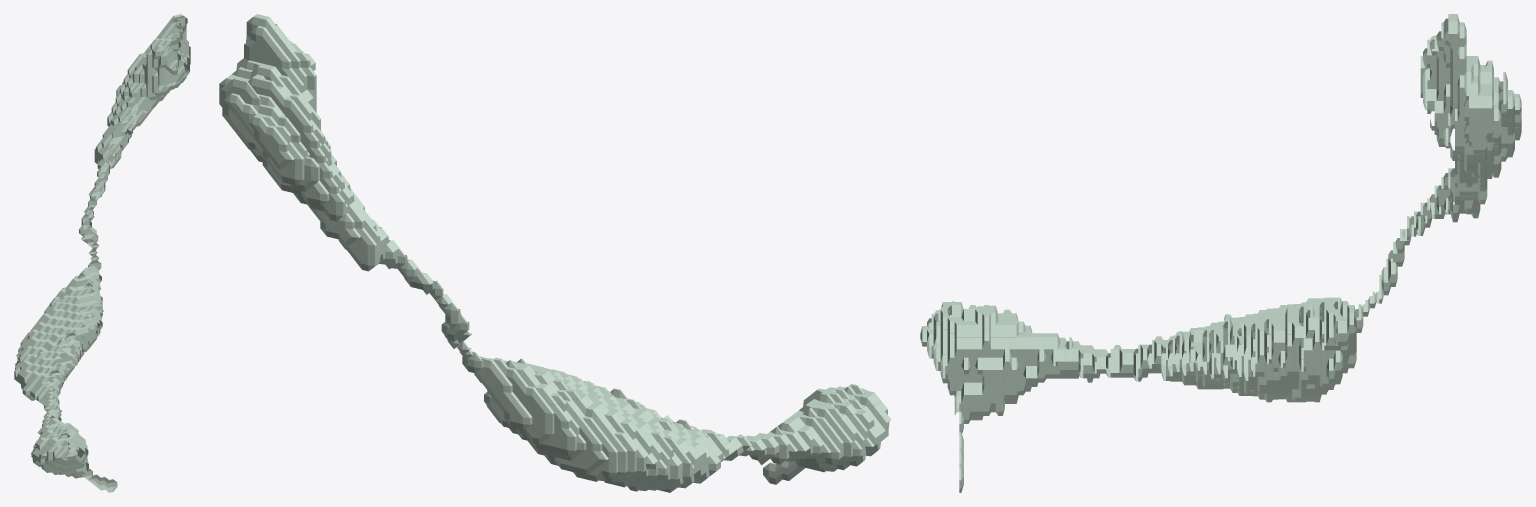
The model's file is SVV_ASGR.gltf.
3 views of the same model, side by side, from view 1: azimuth 30°, elevation 25°; view 2: azimuth 150°, elevation 25°; view 3: azimuth 270°, elevation 25° (orthographic). The views are drawn at different scales.
Parts seen in each view (by area): view 1: ASGR; view 2: ASGR; view 3: ASGR.
Part boxes in pixels (left/top/right/bottom): ASGR: left=14, top=14, right=190, bottom=492; ASGR: left=219, top=14, right=891, bottom=492; ASGR: left=920, top=14, right=1521, bottom=492.
Bounding box in the file's own units: 35345 × 40465 × 33546.
